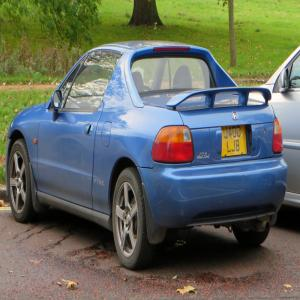Vehicle-registration-plate: (225, 124, 249, 158)
